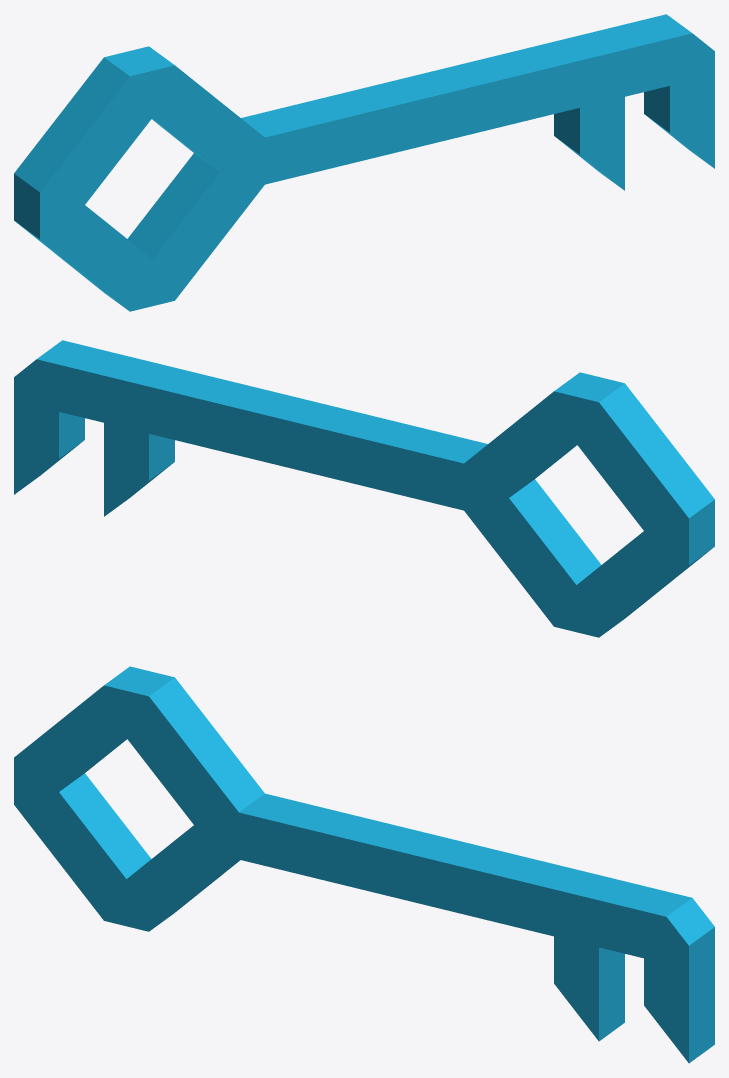
The model's file is Key.fbx.
3 renders of one model, top to bottom at view 1: azimuth 30°, elevation 25°; view 2: azimuth 150°, elevation 25°; view 3: azimuth 330°, elevation 25°, orthographic.
Parts seen in each view (by area): view 1: Key; view 2: Key; view 3: Key.
Part boxes in pixels (x1,y1,x2,y2): Key: [14, 14, 714, 311]; Key: [14, 340, 714, 637]; Key: [14, 666, 714, 1063].
Size of the model in its own units: 30 by 10 by 2.
